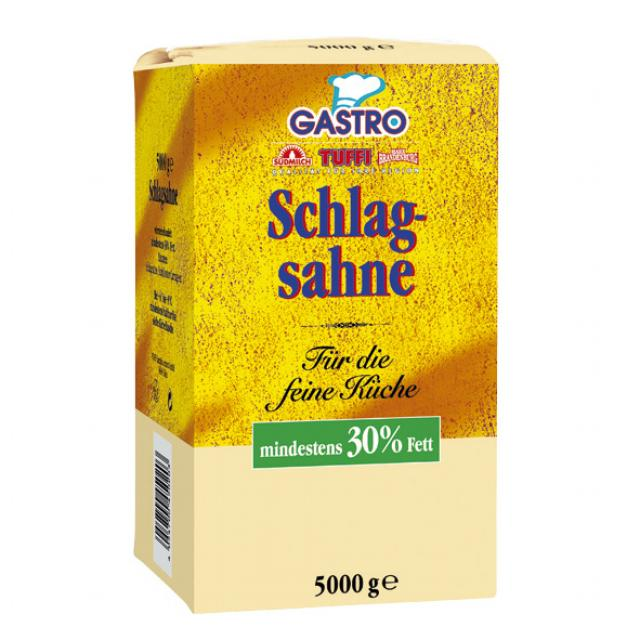Cream: (134, 38, 499, 613)
